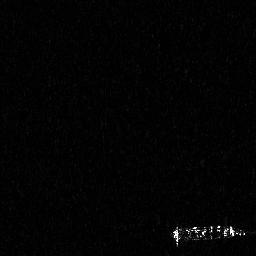ship: (168, 220, 247, 249)
